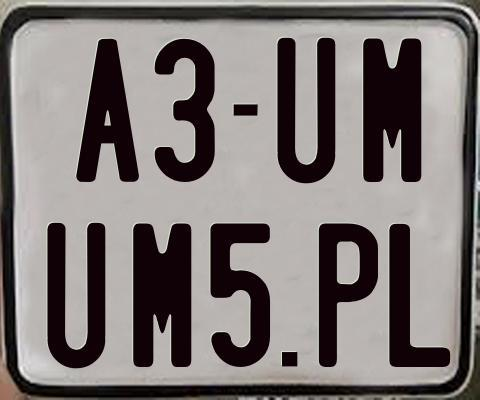3: (152, 39, 216, 186)
5: (209, 223, 273, 367)
A: (75, 39, 142, 188)
L: (386, 221, 447, 369)
M: (360, 38, 425, 185), (132, 220, 194, 369)
P: (319, 222, 383, 370)
U: (47, 220, 110, 371), (275, 35, 333, 183)
